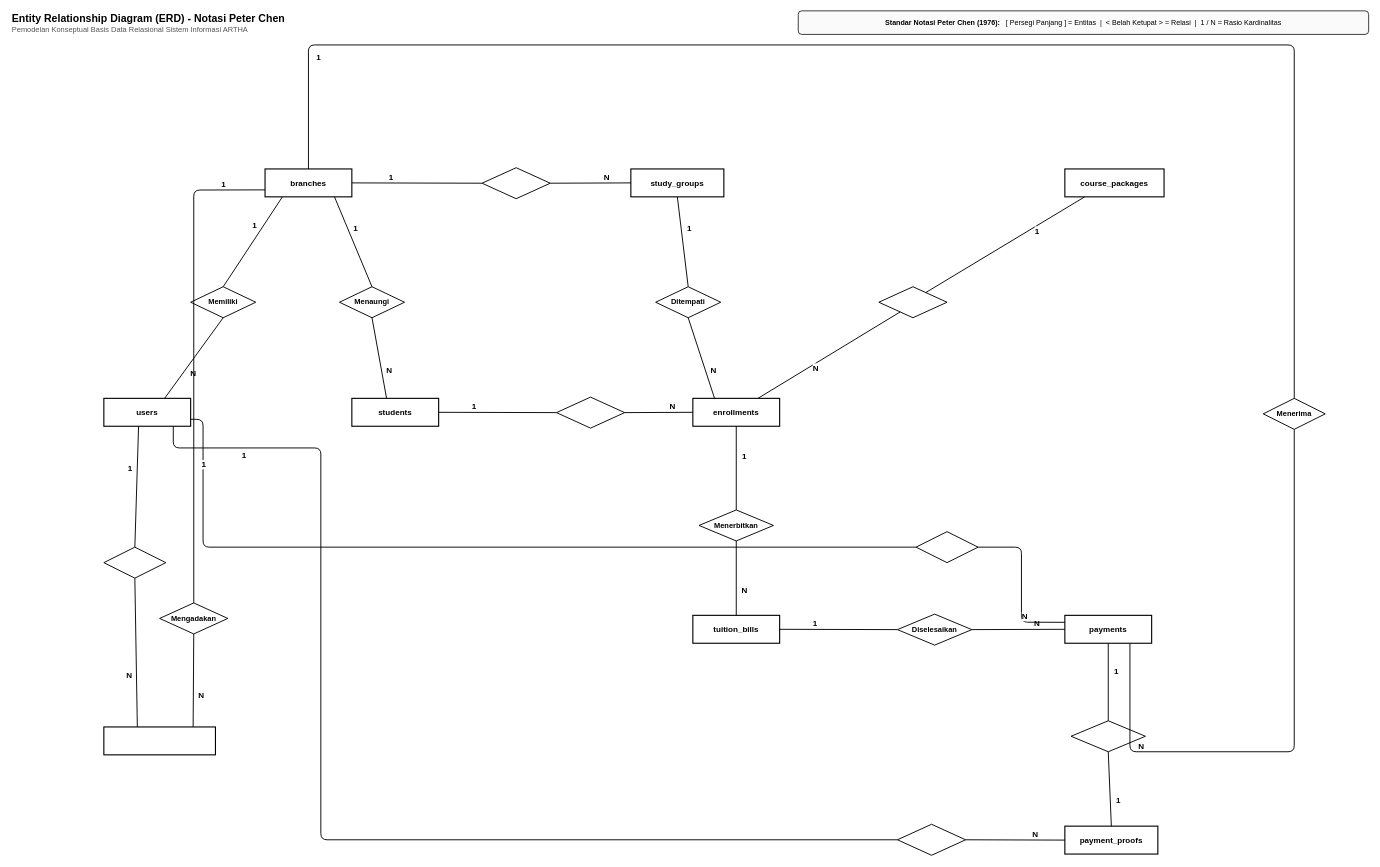
The diagram is 1380 pixels wide and 867 high, and some of its shapes have lost their labels. Here are the shapes that lost their labels. From the top down, the centre of each, then its label:
At point (515, 183): "Mengelola".
At point (912, 302): "Ditawarkan".
At point (590, 412): "Mengambil".
At point (134, 562): "Melakukan".
At point (946, 547): "Melayani".
At point (159, 740): "daily_reconciliations".
At point (1108, 736): "Melampirkan".
At point (931, 839): "Memvalidasi".
